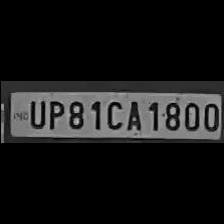0: (180, 99, 200, 131), (200, 100, 220, 132)
1: (142, 98, 160, 132), (86, 98, 102, 130)
8: (64, 97, 86, 130), (161, 99, 181, 131)
A: (122, 98, 144, 132)
C: (102, 97, 124, 130)
P: (43, 97, 63, 130)
U: (24, 97, 46, 129)
